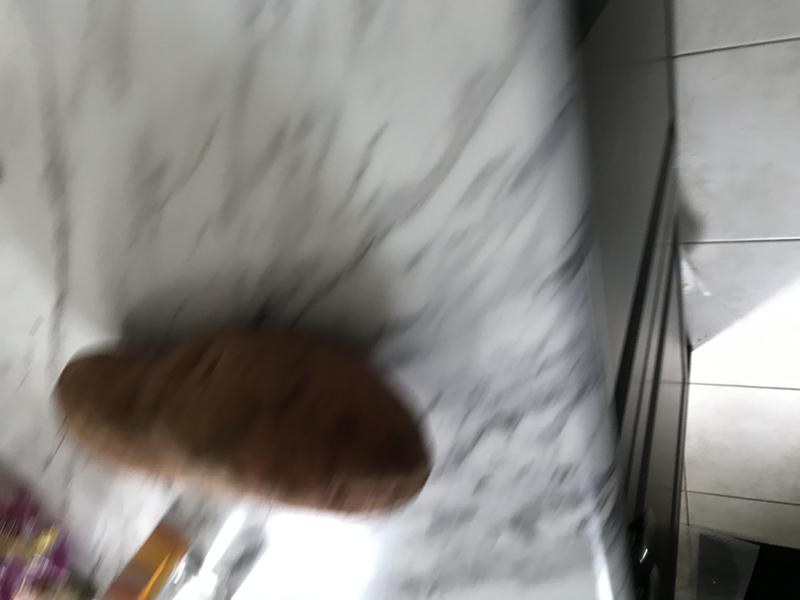sweet_potato: (35, 311, 451, 536)
